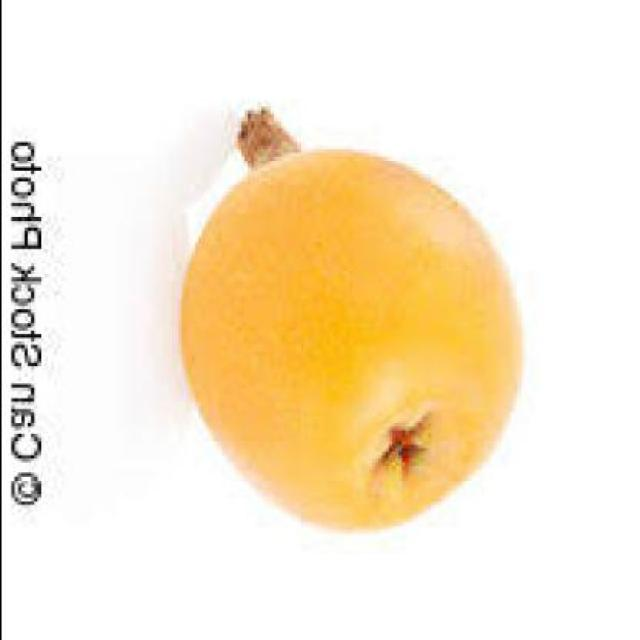BIODEGRADABLE: (180, 148, 525, 531)
